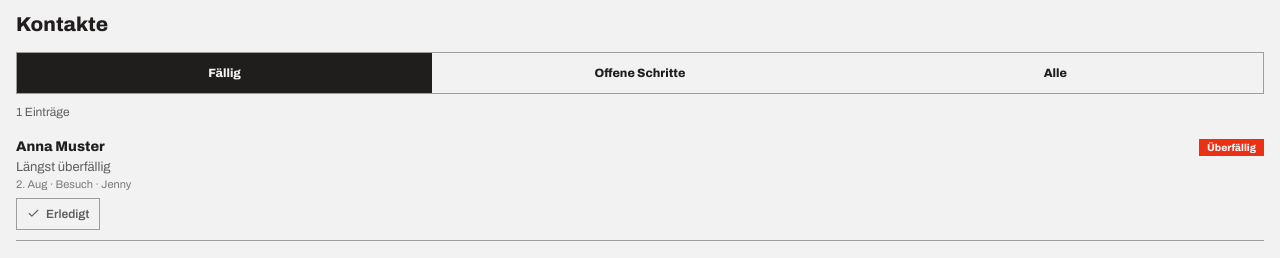
KontakteTabScreen (7.6) › "Erledigt" markiert die Wiedervorlage und der Eintrag verschwindet aus "Fällig" (Lücke 12.1)
Expected: the text "Anna Muster" is shown, x1=16 y1=139 x2=105 y2=154
What coordinates should you click on to do the following:
click the button "Erledigt"
I would click on:
 (58, 214)
Its box is x1=16 y1=198 x2=100 y2=230.
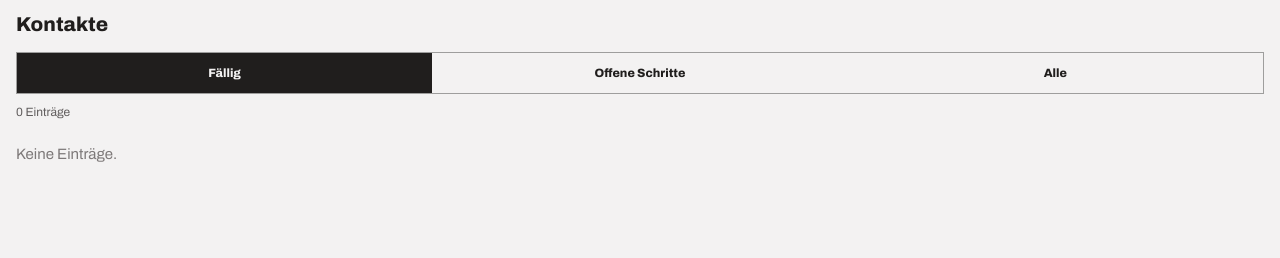
Expected: the button "Anna Muster" is gone
Expected: the text "0 Einträge" is shown, x1=16 y1=105 x2=70 y2=119
